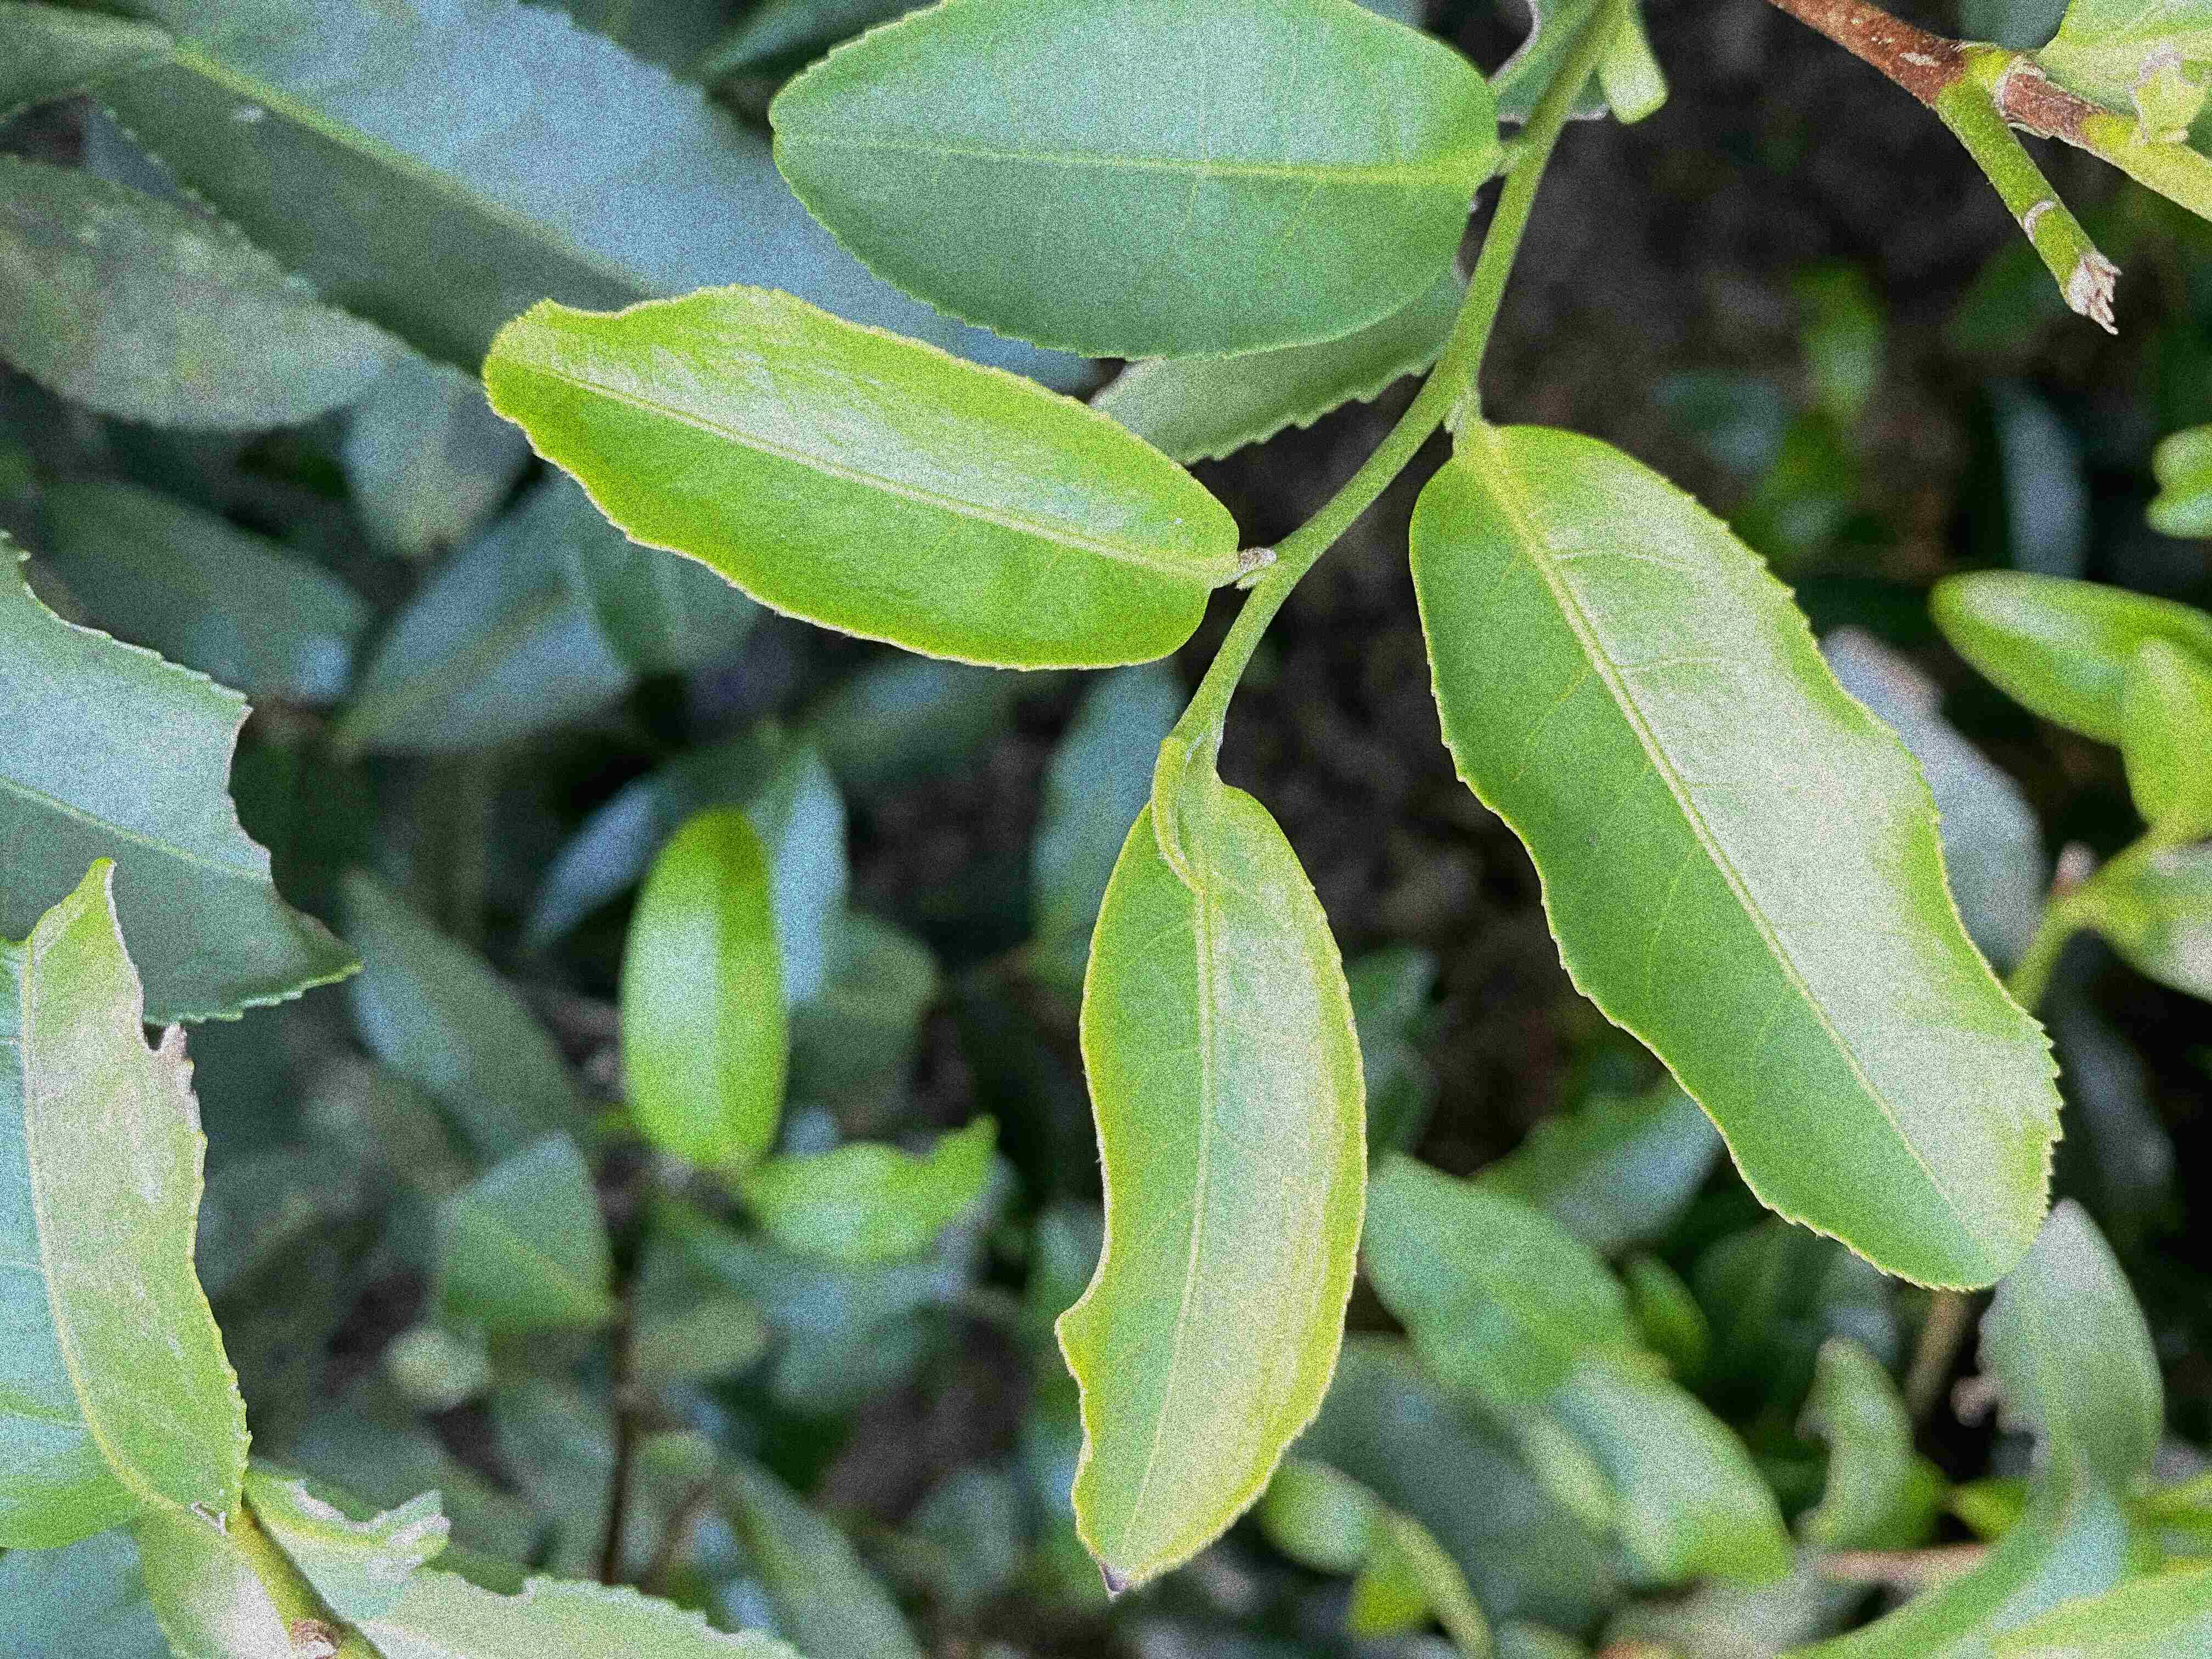chihuo_high: (2, 528, 371, 1026)
healthy: (1404, 415, 2073, 1293), (482, 281, 1244, 676), (765, 0, 1500, 369)
